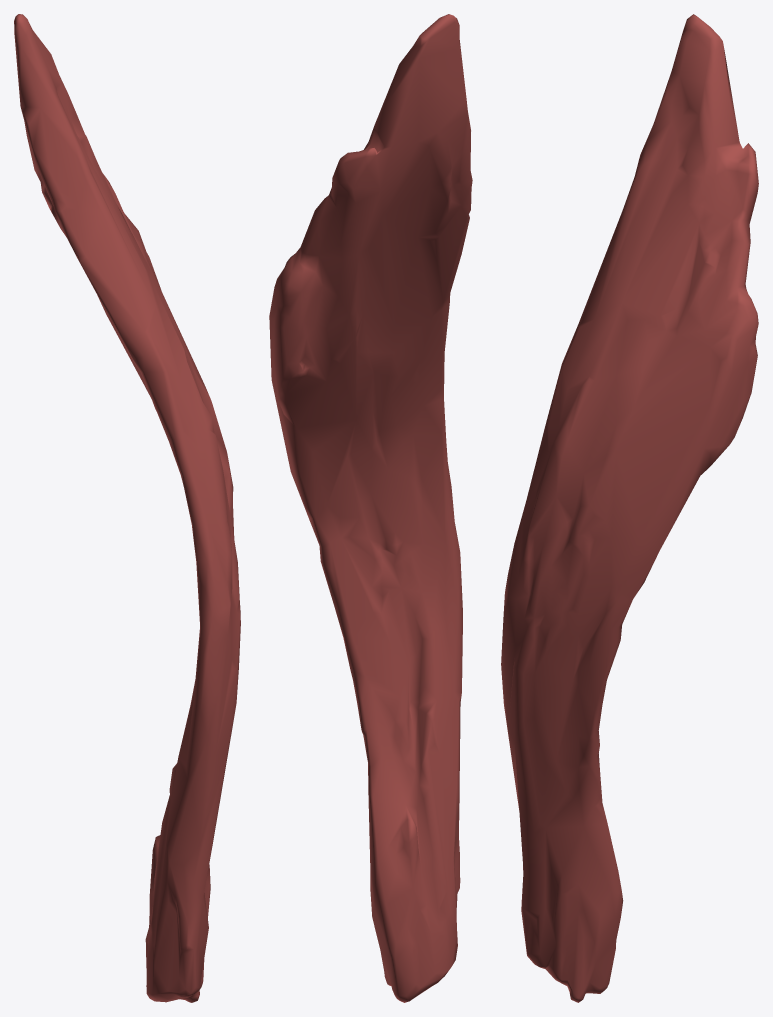
Rendered from FMA46804.glb.
3 renders of one model, left to right at view 1: azimuth 30°, elevation 25°; view 2: azimuth 150°, elevation 25°; view 3: azimuth 270°, elevation 25°, orthographic. The views are drawn at different scales.
Parts seen in each view (by area): view 1: FMA46804; view 2: FMA46804; view 3: FMA46804.
Boxes of the visible parts, left/top/right/bottom form: FMA46804: left=14, top=14, right=240, bottom=1002; FMA46804: left=269, top=14, right=472, bottom=1002; FMA46804: left=501, top=14, right=758, bottom=1002.
Size of the model in its own units: 0.00521 by 0.0282 by 0.00705.
